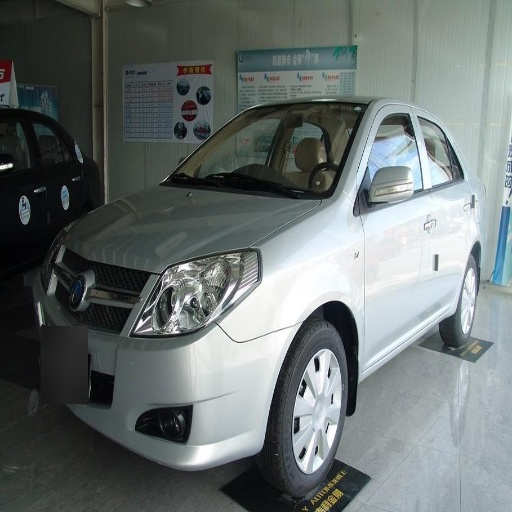front_bumper: (40, 248, 298, 467)
front_glass: (164, 103, 367, 198)
front_left_door: (360, 107, 435, 362)
